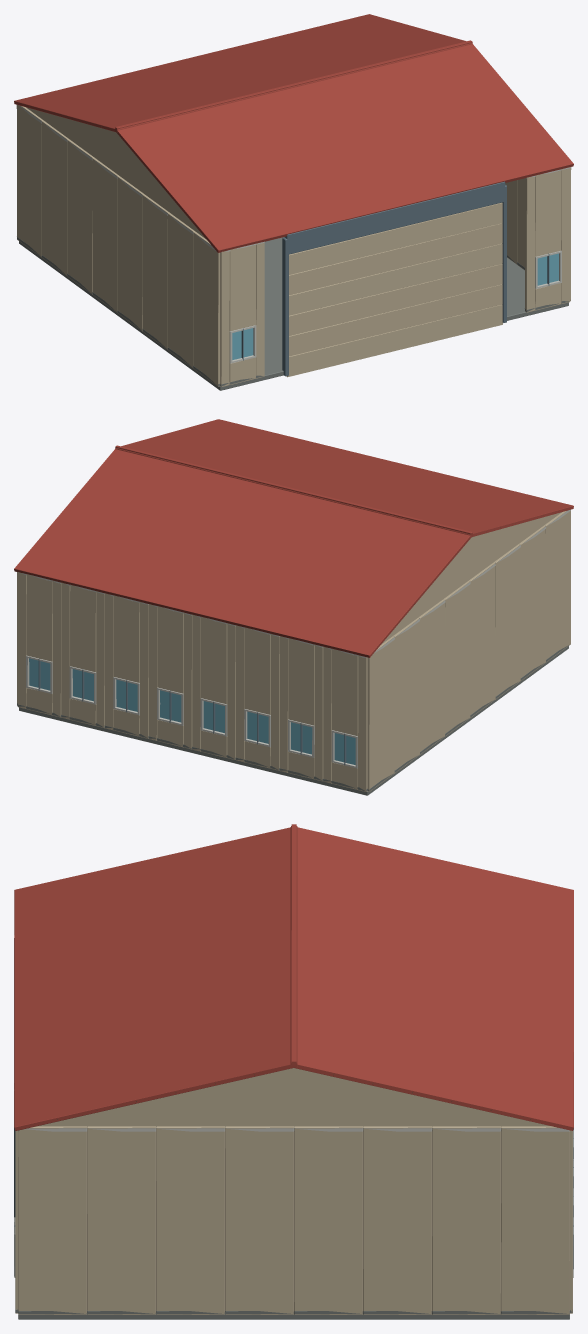
Rendered from architecture-hangar.lod1.glb.
3 renders of one model, top to bottom at view 1: azimuth 30°, elevation 25°; view 2: azimuth 150°, elevation 25°; view 3: azimuth 270°, elevation 25°, orthographic. The views are drawn at different scales.
Visible parts, largest first — view 1: architecture-hangar__body, architecture-hangar__loading_door; view 2: architecture-hangar__body; view 3: architecture-hangar__body.
Boxes of the visible parts, box(x1,y1,x2,y2) form: architecture-hangar__body: box(14, 14, 573, 390); architecture-hangar__loading_door: box(287, 202, 502, 377); architecture-hangar__body: box(14, 419, 573, 795); architecture-hangar__body: box(14, 824, 573, 1319).
Bounding box in the file's own units: 16.31 × 8.43 × 16.24.
